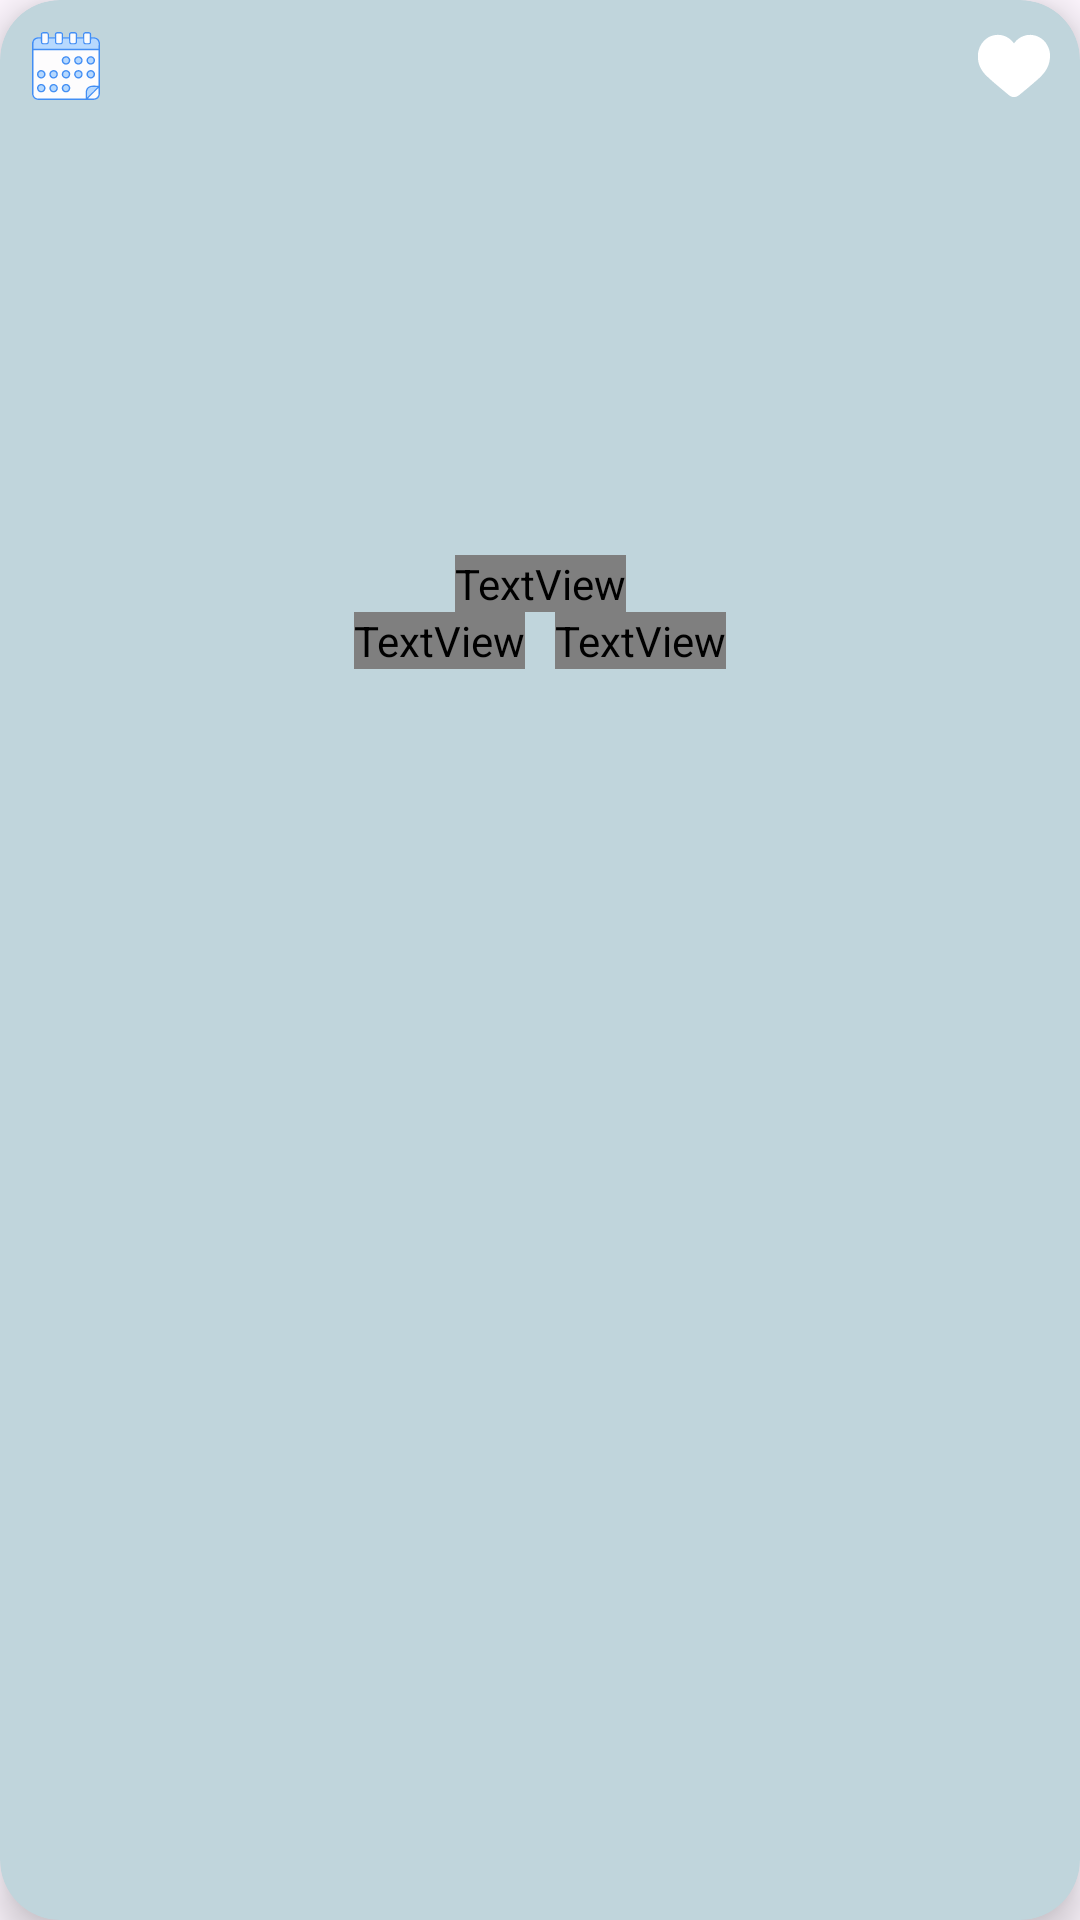

Icon click points for this 1080x1920 phone screenshot, format [x,y]:
add to plan: [66,66]
heart: [1014,66]
